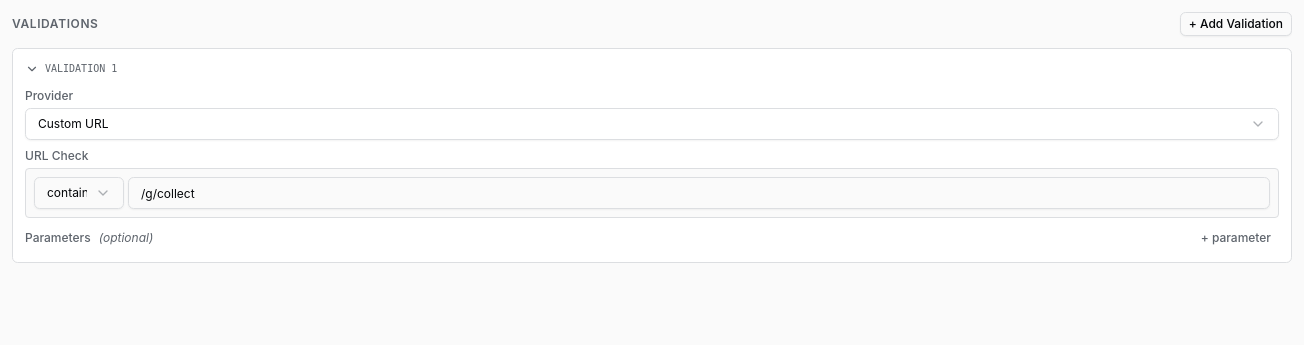
ValidationBuilder › url check › offers every match type for the url check
Click the dropdown labelled "contains" at (79, 193), box x1=34 y1=177 x2=124 y2=209
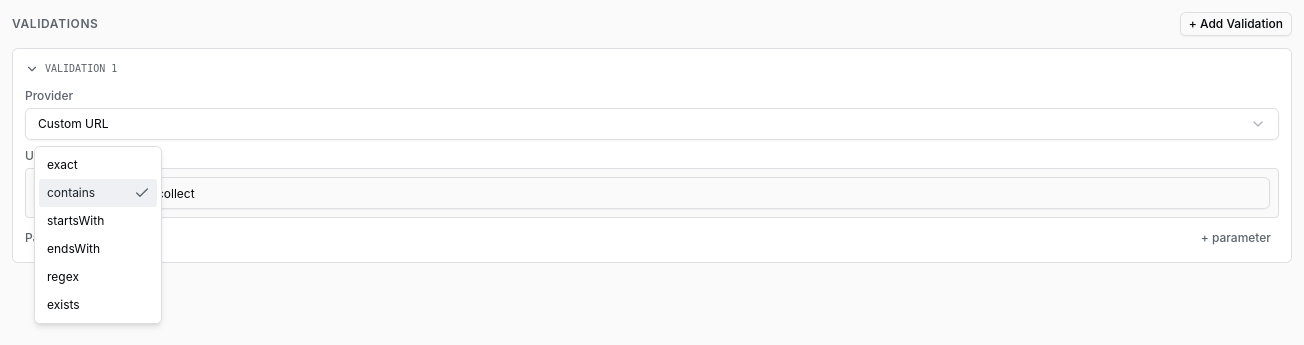
Result: the number of options is 6 at x1=47 y1=157 x2=78 y2=172; x1=39 y1=179 x2=157 y2=207; x1=47 y1=213 x2=104 y2=228; x1=47 y1=241 x2=100 y2=256; x1=47 y1=269 x2=79 y2=284; x1=47 y1=297 x2=80 y2=312
